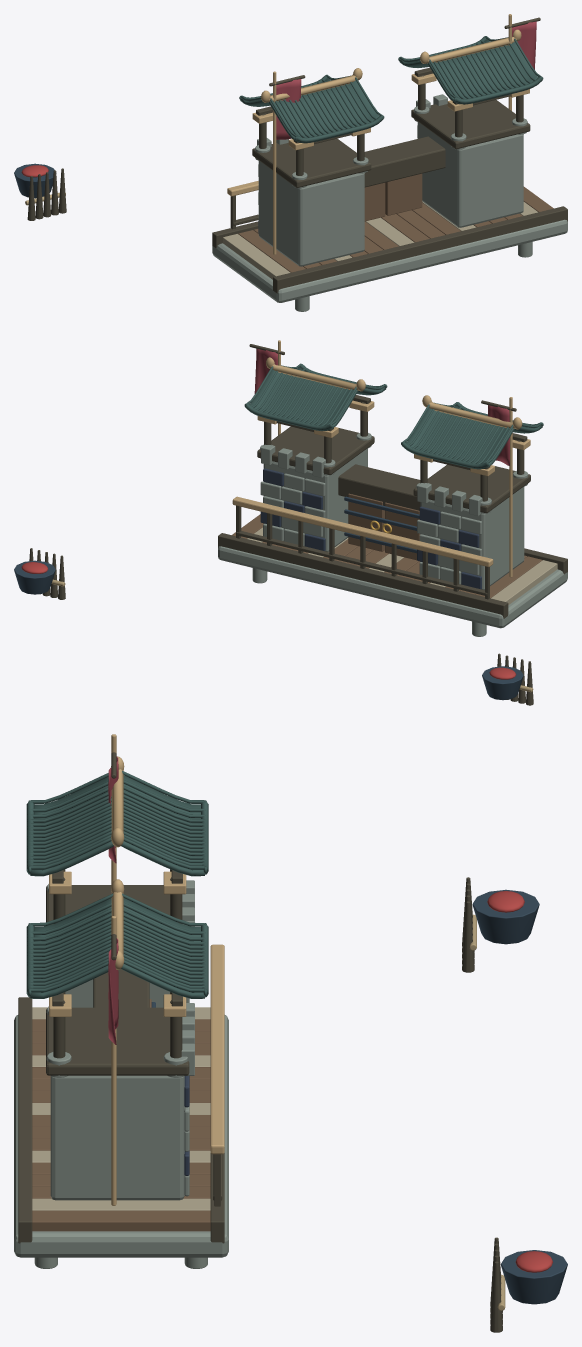
The model's file is redcliff.glb.
3 views of the same model, one above another, from view 1: azimuth 30°, elevation 25°; view 2: azimuth 150°, elevation 25°; view 3: azimuth 270°, elevation 25° (orthographic). The views are drawn at different scales.
Visible parts, largest first — view 1: Watchtower stonework, Watchtower stonework.001, Foundation stone, Mortised deck edge, Fortress watch pavilion raised sill.001, Fortress watch pavilion raised sill, Fortress watch pavilion0 roof shell.001, Fortress watch pavilion0 roof shell, Gate lintel, Ironbound gate.001, Individual deck plank, Ironbound gate (+15 smaller); view 2: Foundation stone, Mortised deck edge.001, Watchtower stonework, Fortress watch pavilion0 roof shell, Fortress watch pavilion0 roof shell.001, Railing top, Fortress watch pavilion raised sill.001, Fortress watch pavilion raised sill, Gate lintel, Watchtower stonework.001, Railing foot, Individual deck plank (+12 smaller); view 3: Watchtower stonework.001, Foundation stone, Fortress watch pavilion raised sill.001, Individual deck plank.017, Mortised deck edge, Railing top, Fortress watch pavilion0 roof shell.001, Fortress watch pavilion0 roof shell, Beacon brazier, Beacon brazier.001, Individual deck plank.016, Fortress watch pavilion raised sill (+14 smaller).
Part boxes in pixels (box(x1,y1,x2,y2)): Watchtower stonework: box(258, 161, 364, 266); Watchtower stonework.001: box(417, 122, 523, 227); Foundation stone: box(212, 219, 567, 302); Mortised deck edge: box(273, 206, 567, 293); Fortress watch pavilion raised sill.001: box(411, 100, 530, 149); Fortress watch pavilion raised sill: box(252, 138, 371, 187); Fortress watch pavilion0 roof shell.001: box(399, 39, 541, 104); Fortress watch pavilion0 roof shell: box(240, 78, 381, 143); Gate lintel: box(364, 136, 445, 187); Ironbound gate.001: box(385, 173, 422, 215); Individual deck plank: box(223, 234, 290, 279); Ironbound gate: box(364, 182, 385, 221); Foundation stone: box(218, 546, 567, 628); Mortised deck edge.001: box(218, 533, 508, 618); Watchtower stonework: box(420, 486, 524, 590); Fortress watch pavilion0 roof shell: box(402, 405, 542, 469); Fortress watch pavilion0 roof shell.001: box(247, 367, 385, 430); Railing top: box(232, 496, 493, 566); Fortress watch pavilion raised sill.001: box(257, 426, 374, 474); Fortress watch pavilion raised sill: box(413, 464, 530, 513); Gate lintel: box(338, 464, 420, 510); Watchtower stonework.001: box(263, 448, 367, 551); Railing foot: box(236, 531, 487, 595); Individual deck plank: box(491, 560, 557, 604); Watchtower stonework.001: box(50, 1075, 184, 1200); Foundation stone: box(14, 1015, 228, 1257); Fortress watch pavilion raised sill.001: box(46, 1007, 189, 1075); Individual deck plank.017: box(32, 1210, 210, 1231); Mortised deck edge: box(18, 997, 32, 1243); Railing top: box(210, 944, 224, 1154); Fortress watch pavilion0 roof shell.001: box(30, 898, 204, 998); Fortress watch pavilion0 roof shell: box(30, 775, 204, 876); Beacon brazier: box(472, 889, 539, 944); Beacon brazier.001: box(500, 1250, 567, 1304); Individual deck plank.016: box(32, 1198, 210, 1210); Fortress watch pavilion raised sill: box(46, 885, 169, 924).
Bounding box in the file's own units: 4.9 × 2.07 × 2.94.
